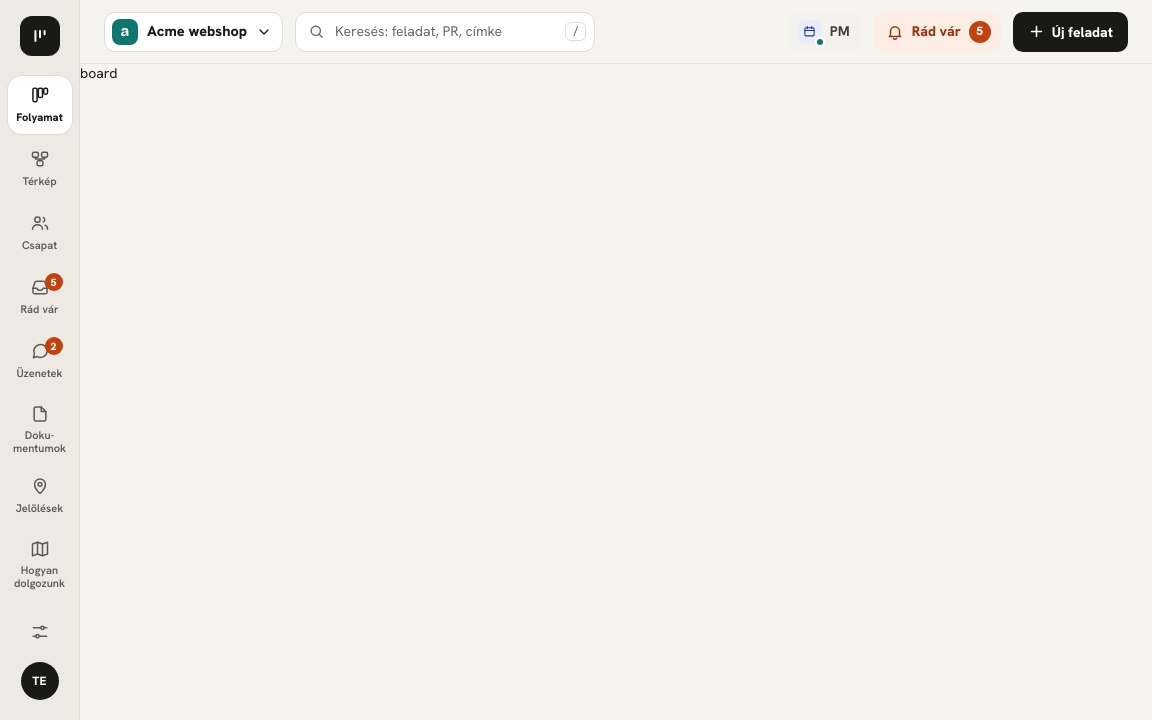
Scenario: the Operator panel › opens beside the page with the focus in the composer and closes with Escape, back to the button
The image size is (1152, 720).
Click the button "PM".
click(826, 32)  # box x1=790 y1=12 x2=862 y2=52
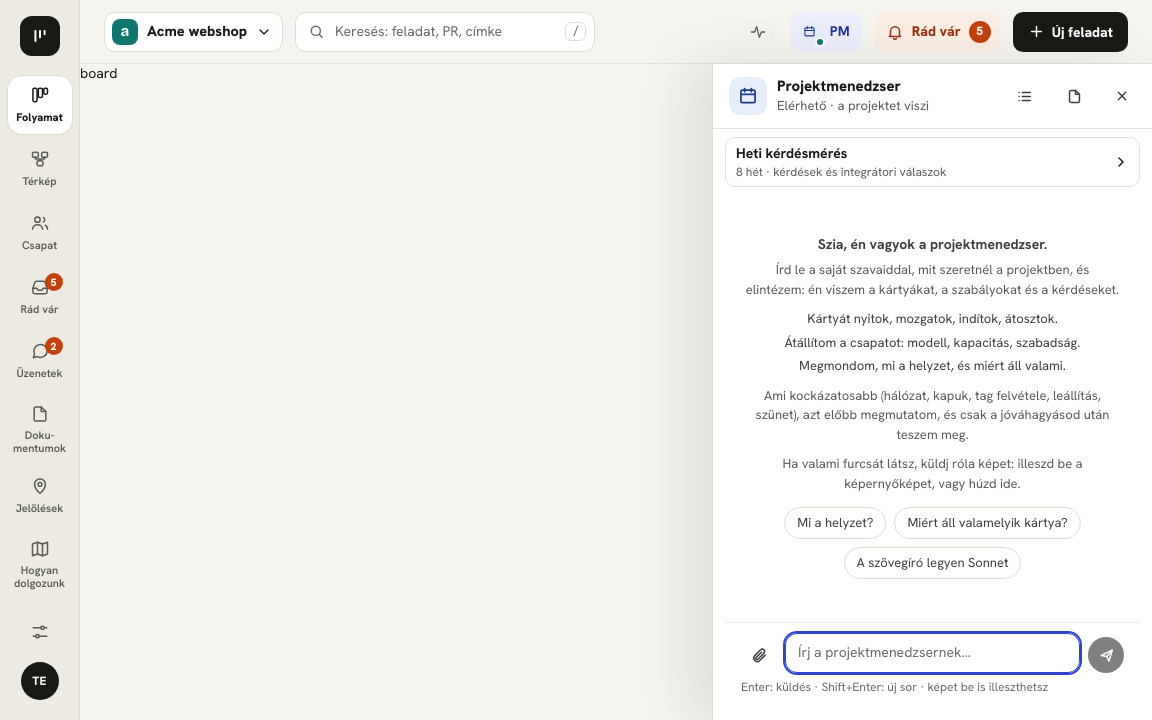
Press Escape in the text box named "Üzenet a projektmenedzsernek", box x1=785 y1=633 x2=1080 y2=673
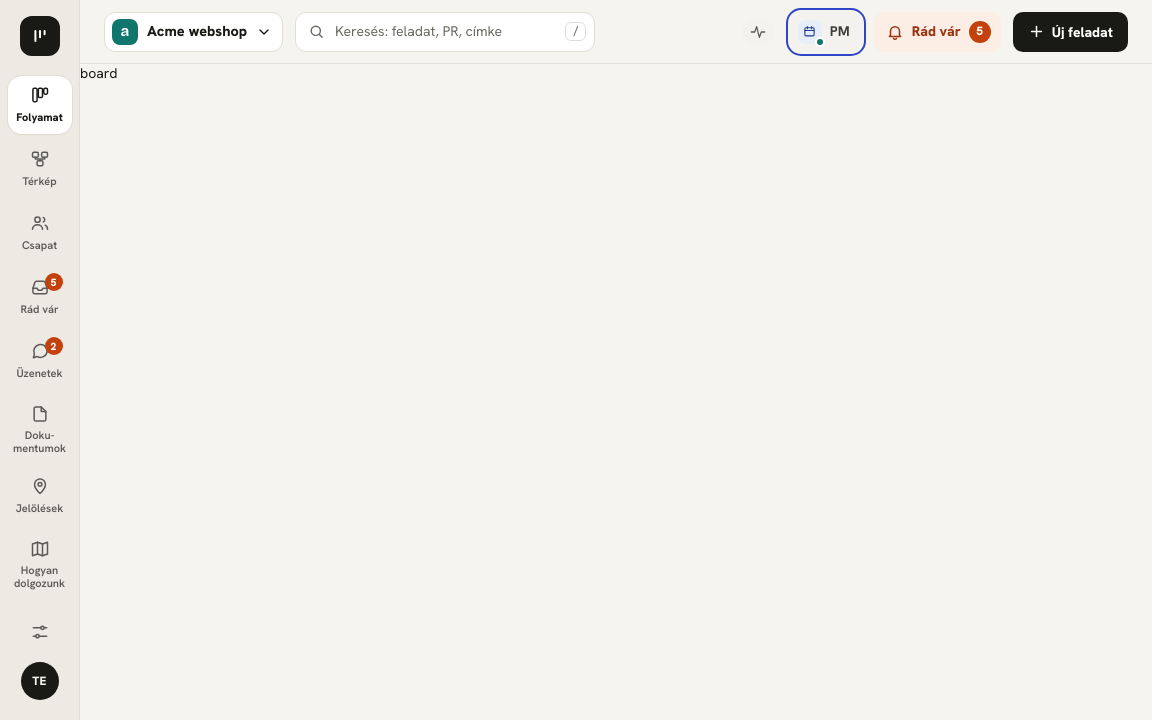
Expected: the dialog is gone
